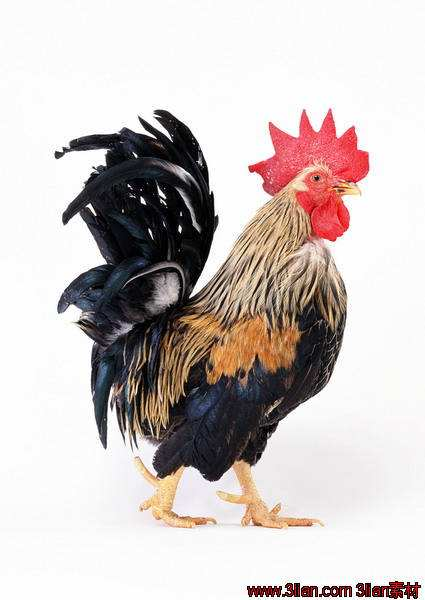chicken: (45, 101, 374, 535)
